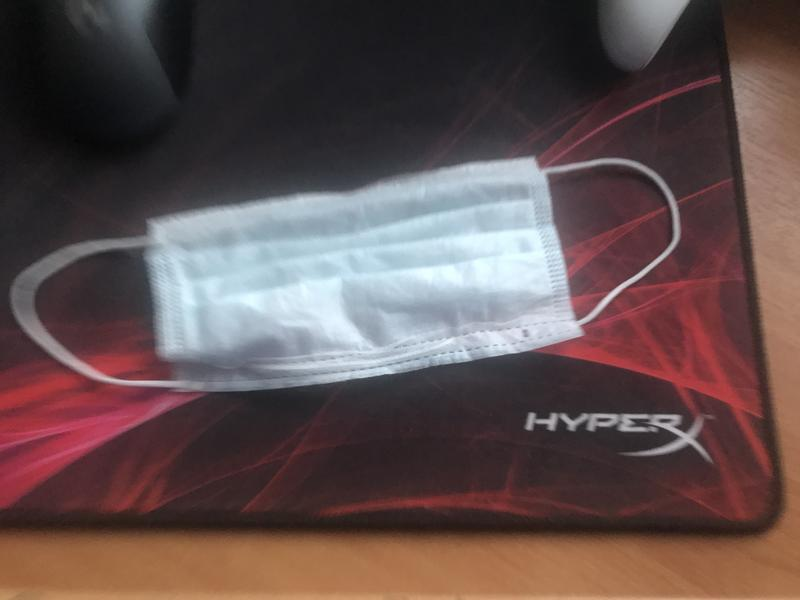medical_mask: (11, 154, 680, 393)
